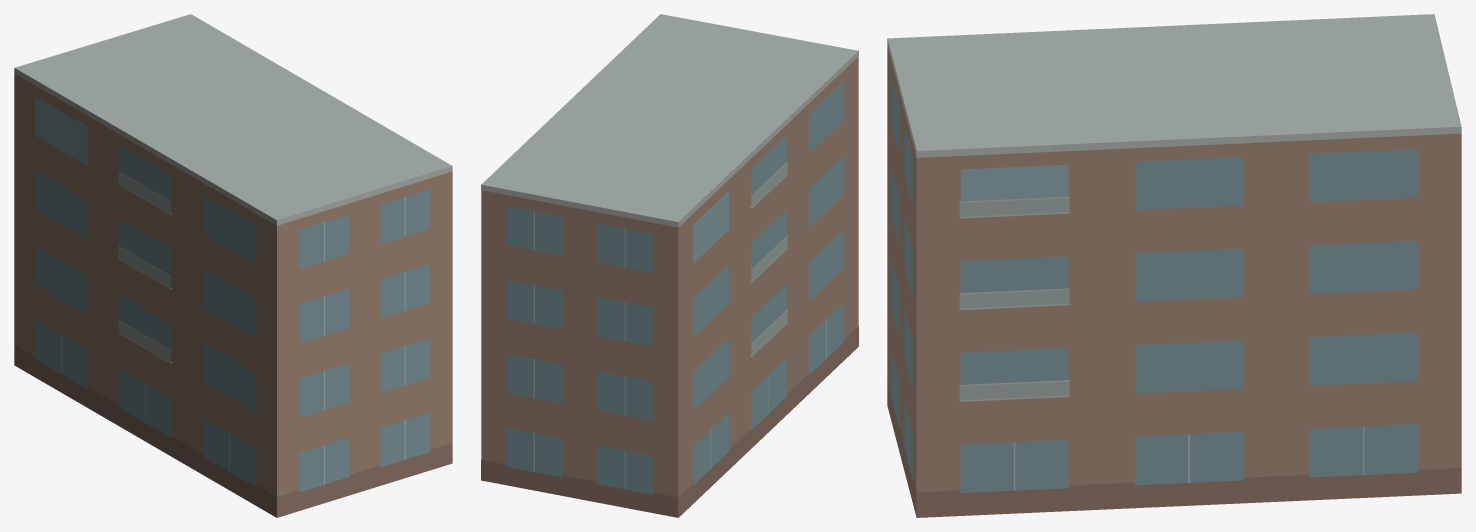
File: survey-upis-32612179.glb
3 renders of one model, left to right at view 1: azimuth 30°, elevation 25°; view 2: azimuth 150°, elevation 25°; view 3: azimuth 270°, elevation 25°, orthographic. The views are drawn at different scales.
Parts seen in each view (by area): view 1: survey-upis-32612179.tmp; view 2: survey-upis-32612179.tmp; view 3: survey-upis-32612179.tmp.
Part boxes in pixels (left/top/right/bottom): survey-upis-32612179.tmp: left=14, top=14, right=452, bottom=517; survey-upis-32612179.tmp: left=481, top=14, right=858, bottom=517; survey-upis-32612179.tmp: left=887, top=14, right=1461, bottom=517.
Size of the model in its own units: 10.6 by 13.2 by 18.74.
